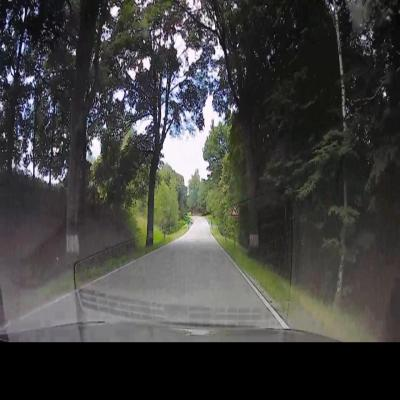clear-road: (100, 217, 253, 305)
